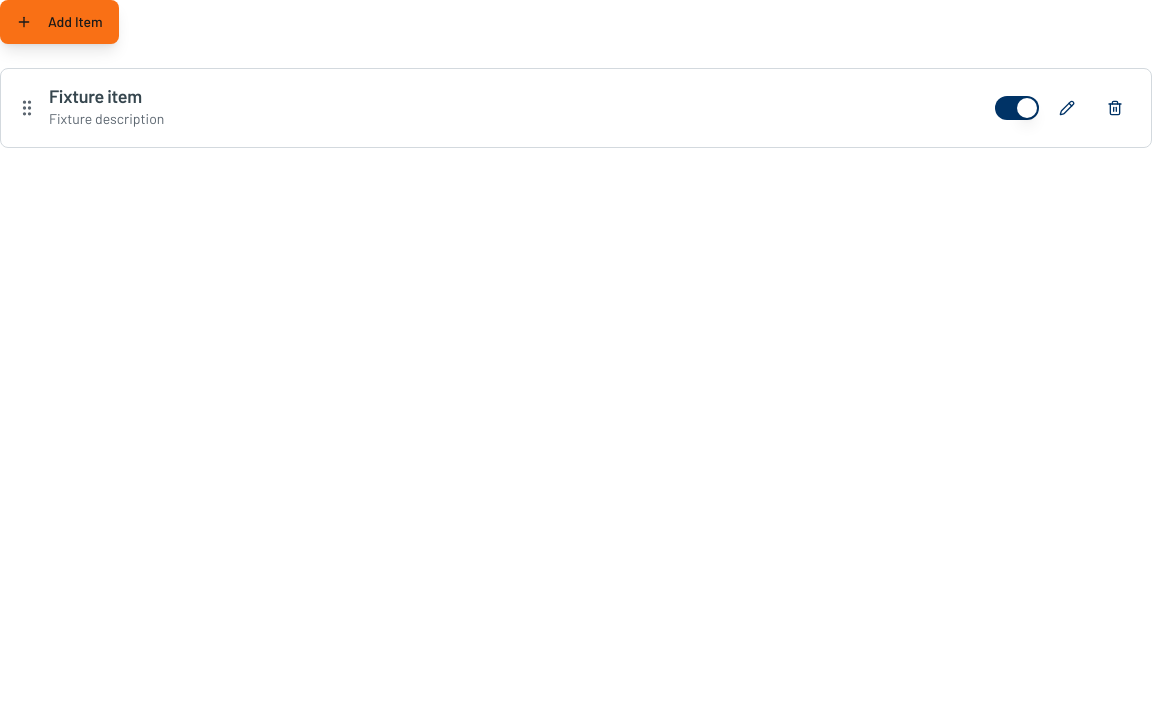
Test case: admin delete confirmation › requires confirmation and supports cancellation for why choose us
Later steps or results of the test are not shown.
Click the button named "Delete Fixture item".
click(1115, 108)  # box 1095,88 -> 1135,128
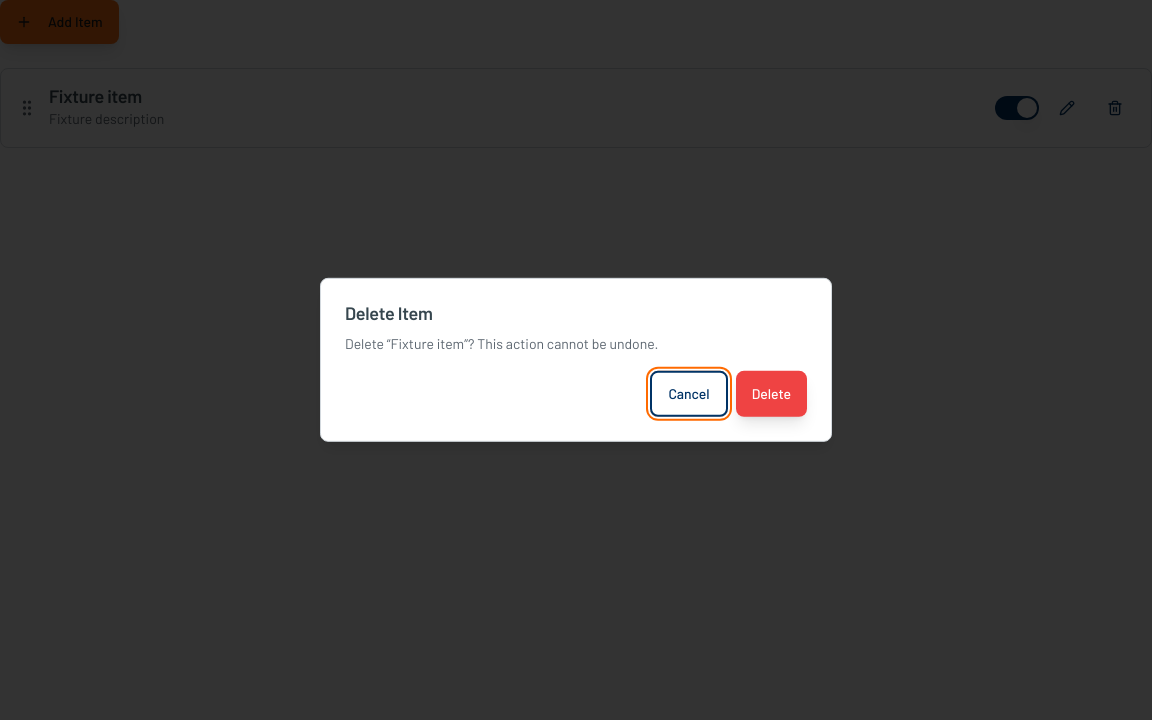
expect the dialog is shown: met, box 320,278 -> 832,442
Click the button "Cancel".
click(689, 394)  # box 650,371 -> 728,417
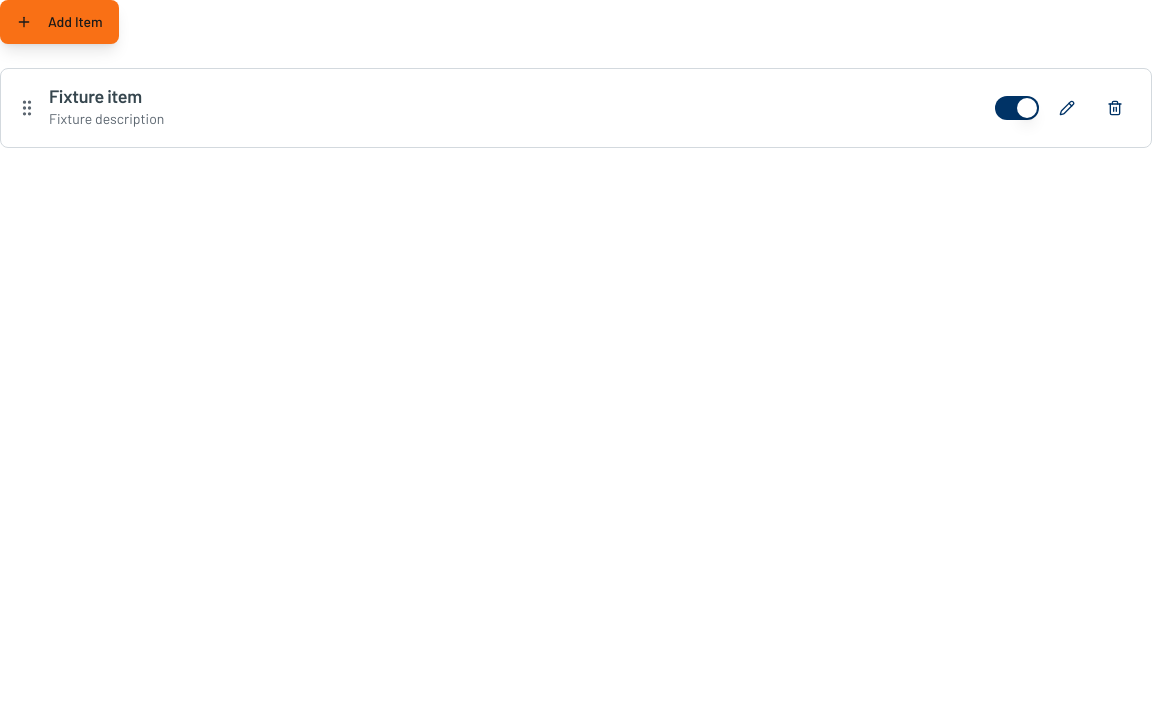
expect the dialog is gone: met
